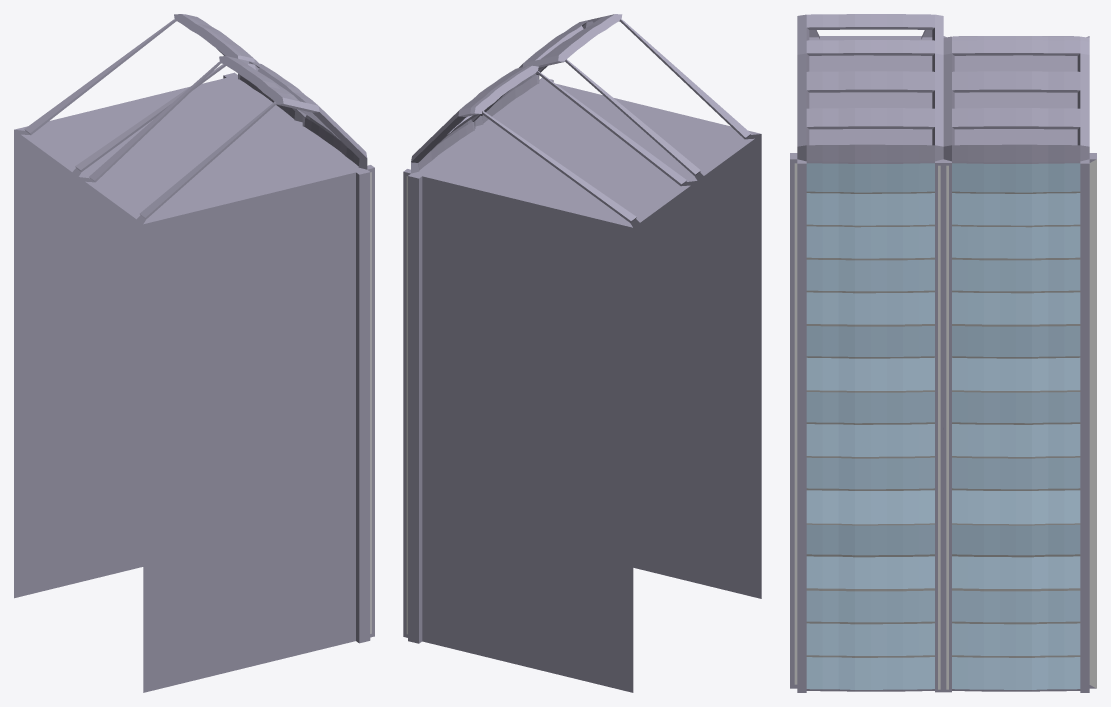
Rendered from BackgroundBuilding3.fbx.
3 renders of one model, left to right at view 1: azimuth 30°, elevation 25°; view 2: azimuth 150°, elevation 25°; view 3: azimuth 270°, elevation 25°, orthographic. The views are drawn at different scales.
Visible parts, largest first — view 1: Cube; view 2: Cube; view 3: Cube.
Boxes of the visible parts, x1,y1,x2,y2 form: Cube: (14, 14, 374, 692); Cube: (403, 14, 761, 692); Cube: (790, 14, 1096, 692).
Size of the model in its own units: 207 by 477 by 210.
